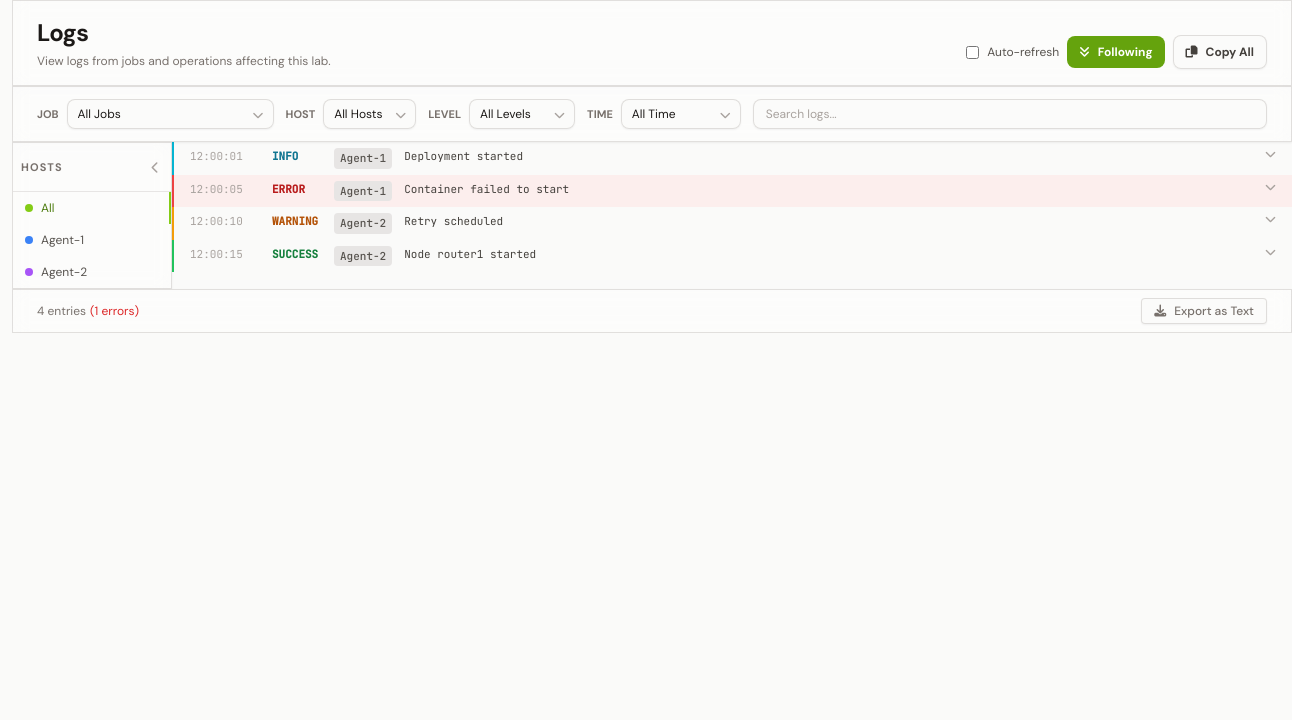
Scenario: LogsView - details and pipeline › shows "No log content available" when job log is empty
The width and height of the screenshot is (1292, 720).
Step 1. Click the text "Deployment started" → (464,156), box [404,149,523,163]
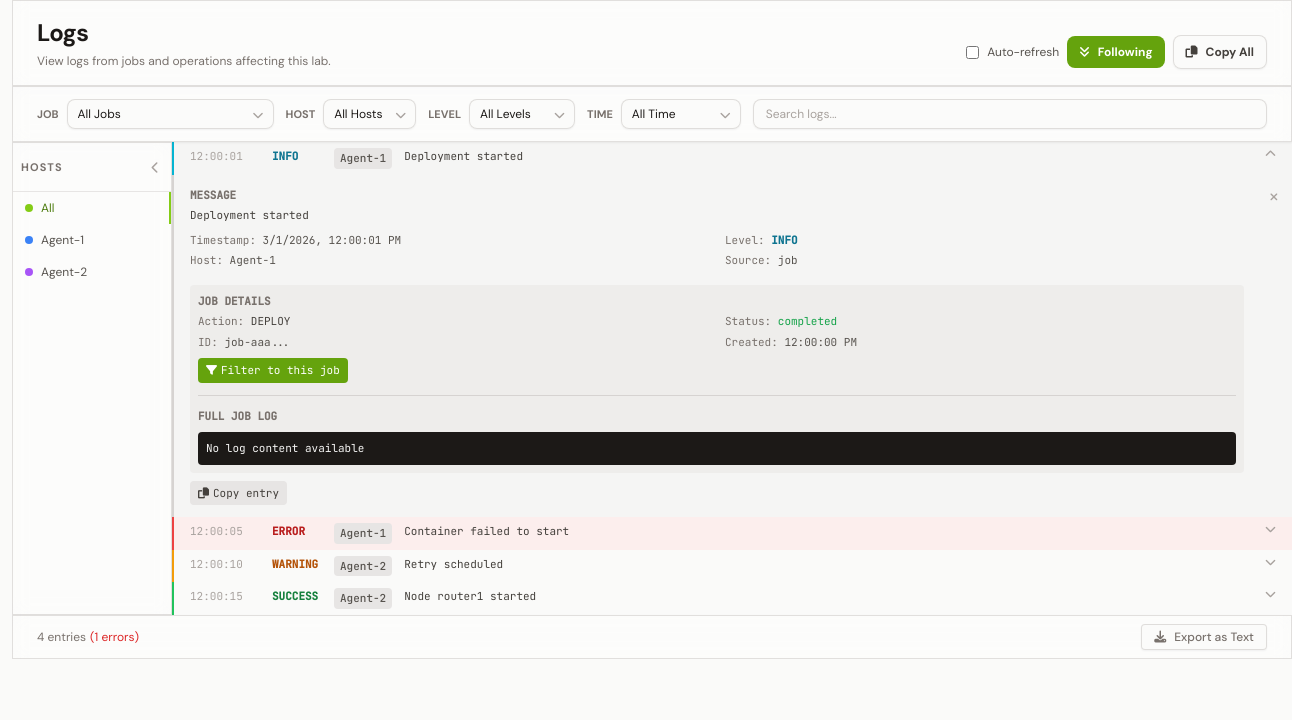
Expected: the text "No log content available" is shown, [198,432,1236,464]
